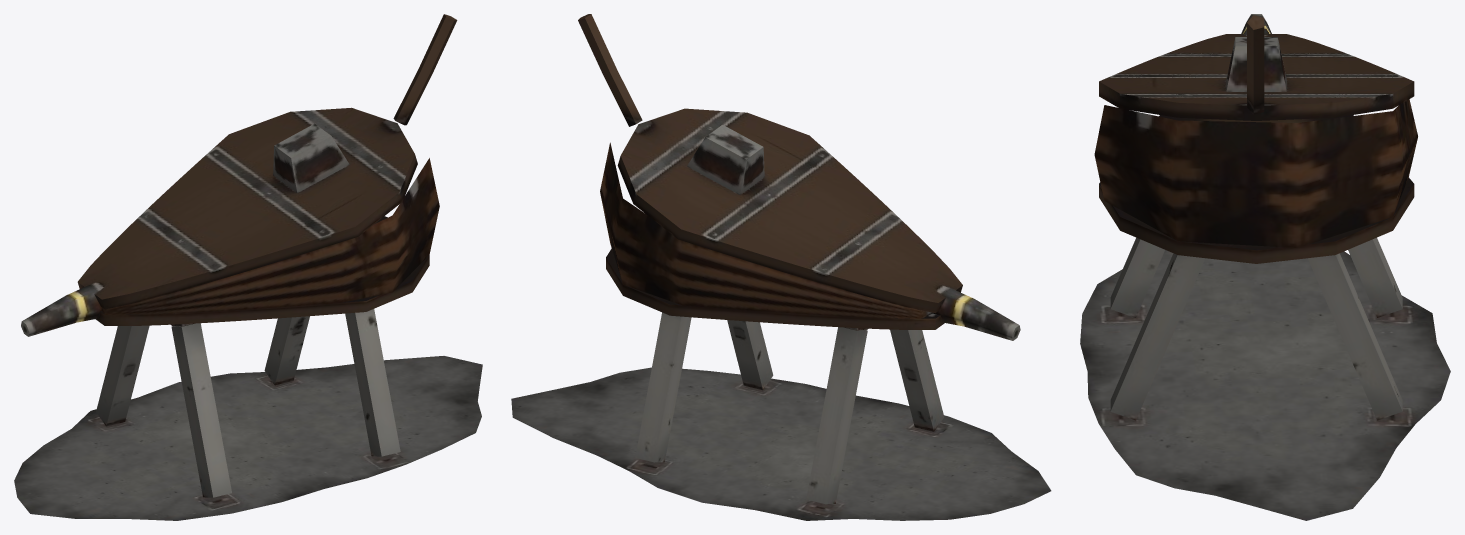
The model's file is foundry_bellows.glb.
The picture shows the model from 3 angles, left to right: view 1: azimuth 30°, elevation 25°; view 2: azimuth 150°, elevation 25°; view 3: azimuth 270°, elevation 25°; orthographic projection. The views are drawn at different scales.
Parts seen in each view (by area): view 1: foundry_bellows; view 2: foundry_bellows; view 3: foundry_bellows.
Boxes of the visible parts, x1=… form: foundry_bellows: x1=14, y1=14, x2=482, y2=520; foundry_bellows: x1=511, y1=14, x2=1051, y2=520; foundry_bellows: x1=1080, y1=14, x2=1450, y2=520.
Size of the model in its own units: 2.34 by 1.71 by 1.22.
1 material, 1 textured.
